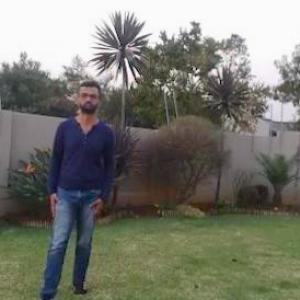follow: (35, 56, 120, 299)
